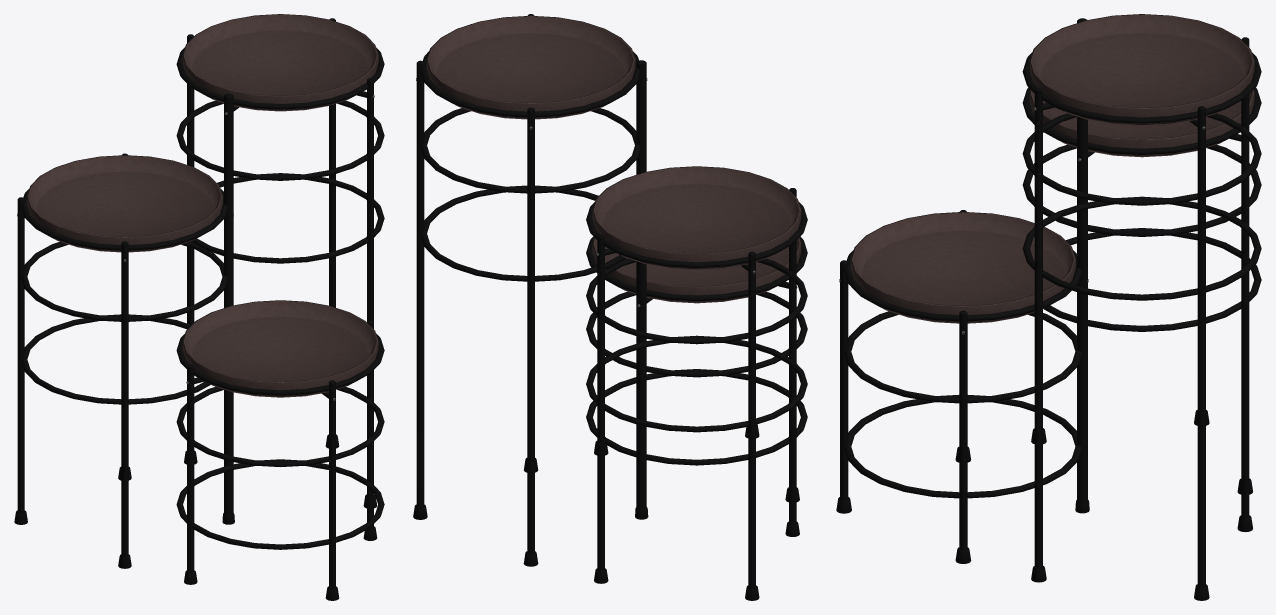
File: Furniture_flowerstand_01a_LOD0.fbx
3 views of the same model, side by side, from view 1: azimuth 30°, elevation 25°; view 2: azimuth 150°, elevation 25°; view 3: azimuth 270°, elevation 25° (orthographic). The views are drawn at different scales.
Visible parts, largest first — view 1: Furniture_flowerstand_01a_LOD0; view 2: Furniture_flowerstand_01a_LOD0; view 3: Furniture_flowerstand_01a_LOD0.
Boxes of the visible parts, left/top/right/bottom form: Furniture_flowerstand_01a_LOD0: left=14, top=14, right=384, bottom=600; Furniture_flowerstand_01a_LOD0: left=413, top=14, right=807, bottom=600; Furniture_flowerstand_01a_LOD0: left=836, top=14, right=1261, bottom=600.
Bounding box in the file's own units: 64.61 × 78.82 × 61.69.
